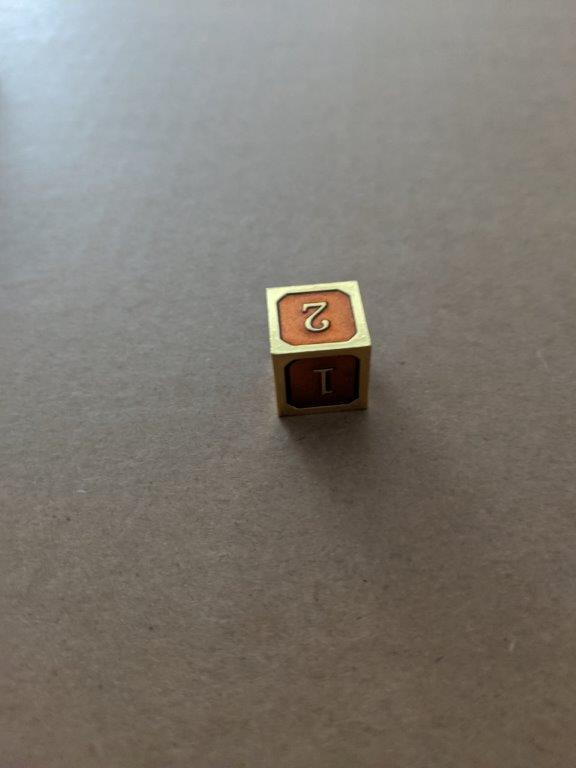d6-2: (263, 277, 375, 418)
